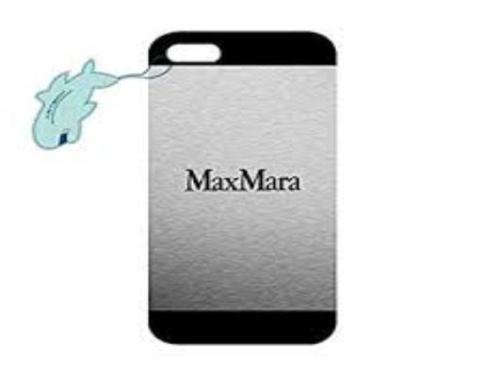MAX-MARA: (182, 166, 302, 192)
